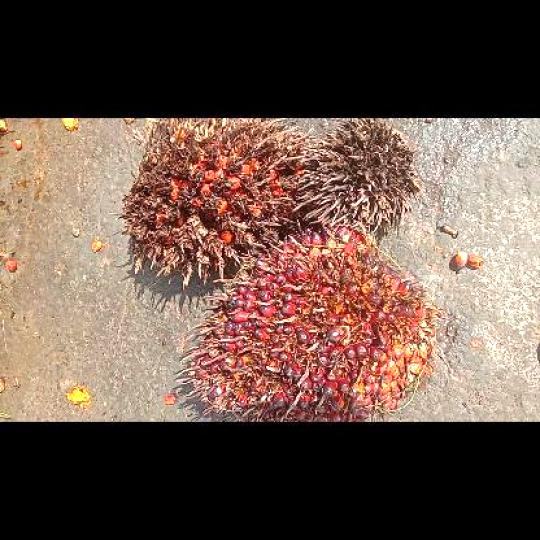masak: (175, 226, 448, 420)
terlalu masak: (116, 118, 312, 287)
